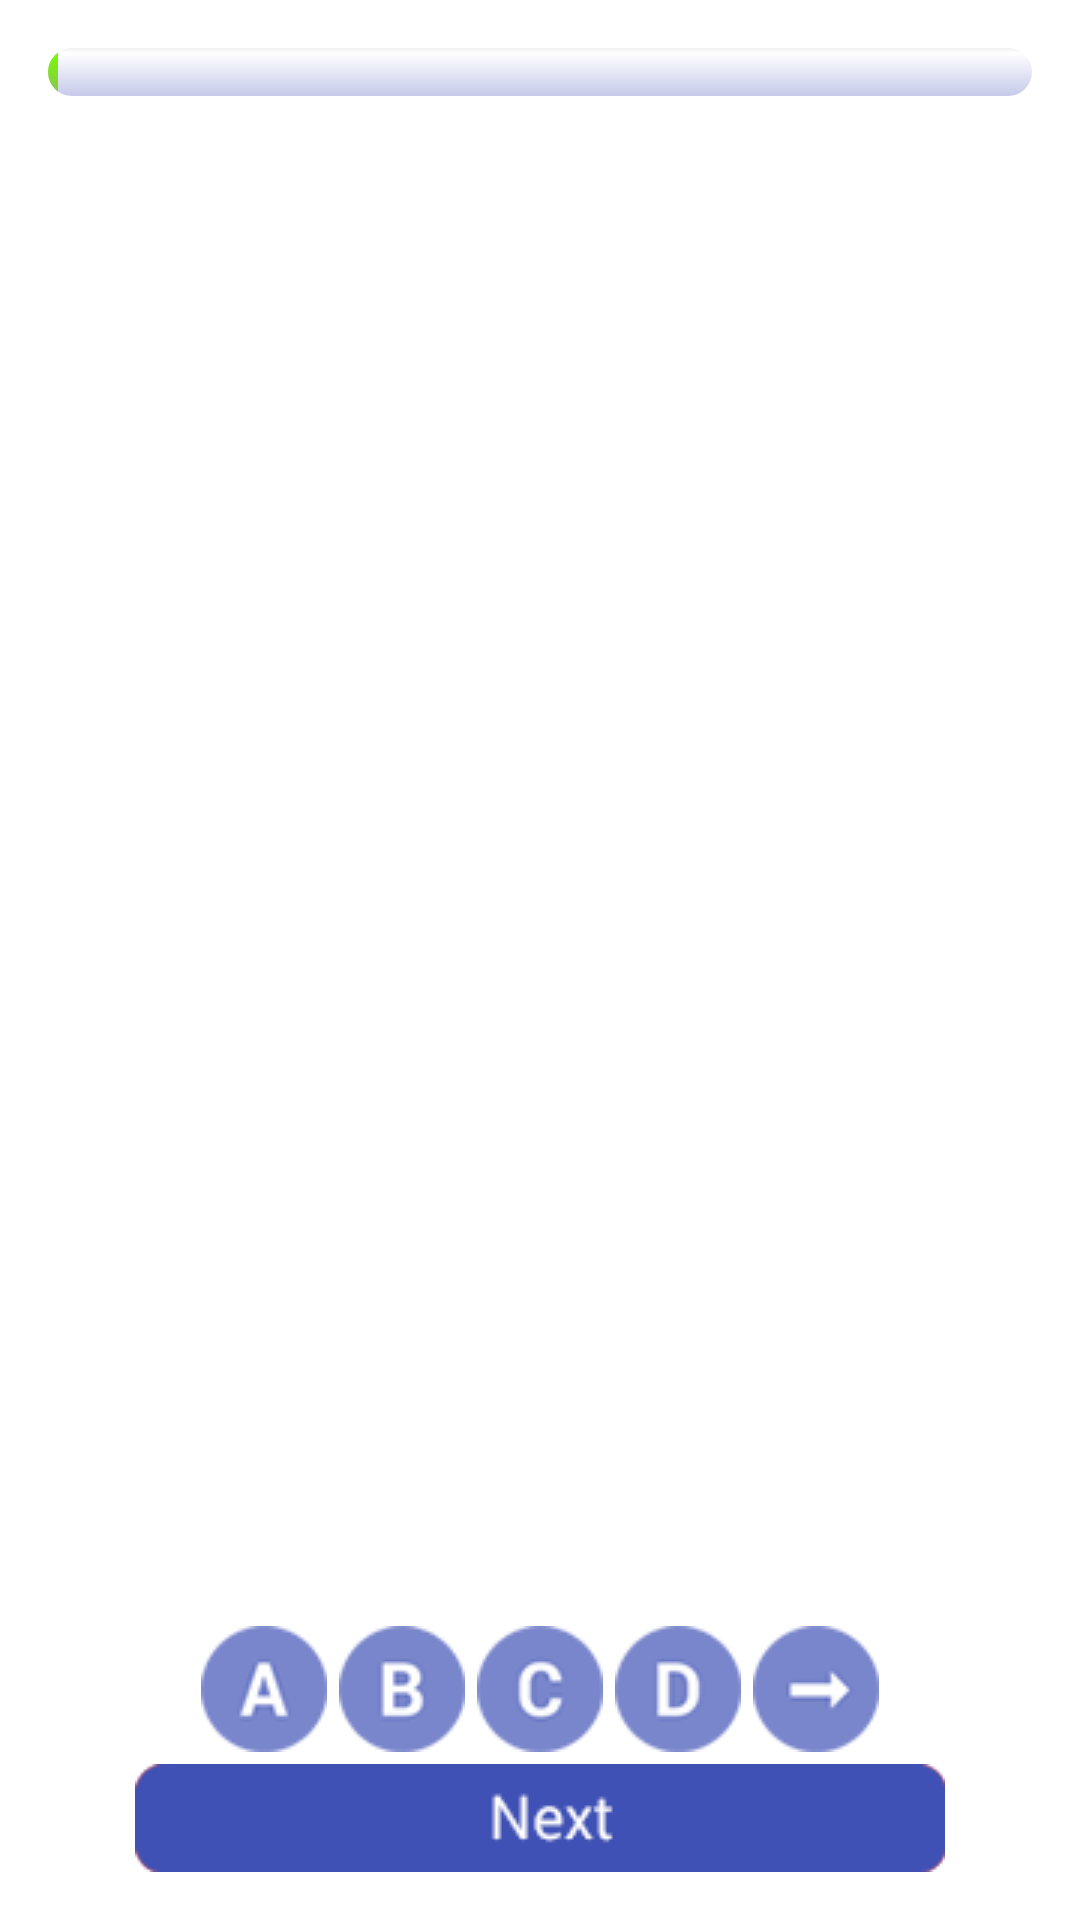

Icons on this 1080×1920 Android screen, each with its box as box=[x1, y1, x2, y2]:
option: box=[201, 1626, 327, 1752], box=[339, 1626, 465, 1752], box=[477, 1626, 603, 1752], box=[615, 1626, 741, 1752]
